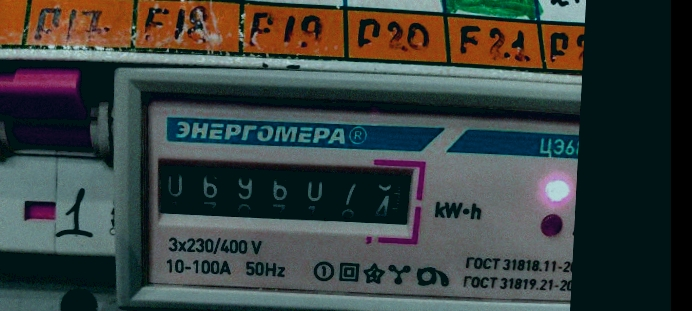0: (164, 167, 185, 198), (305, 172, 325, 203)
4: (371, 191, 391, 220)
6: (198, 168, 221, 199), (270, 172, 290, 201)
7: (340, 174, 358, 205)
9: (235, 171, 254, 201)
screen: (138, 139, 427, 244)
